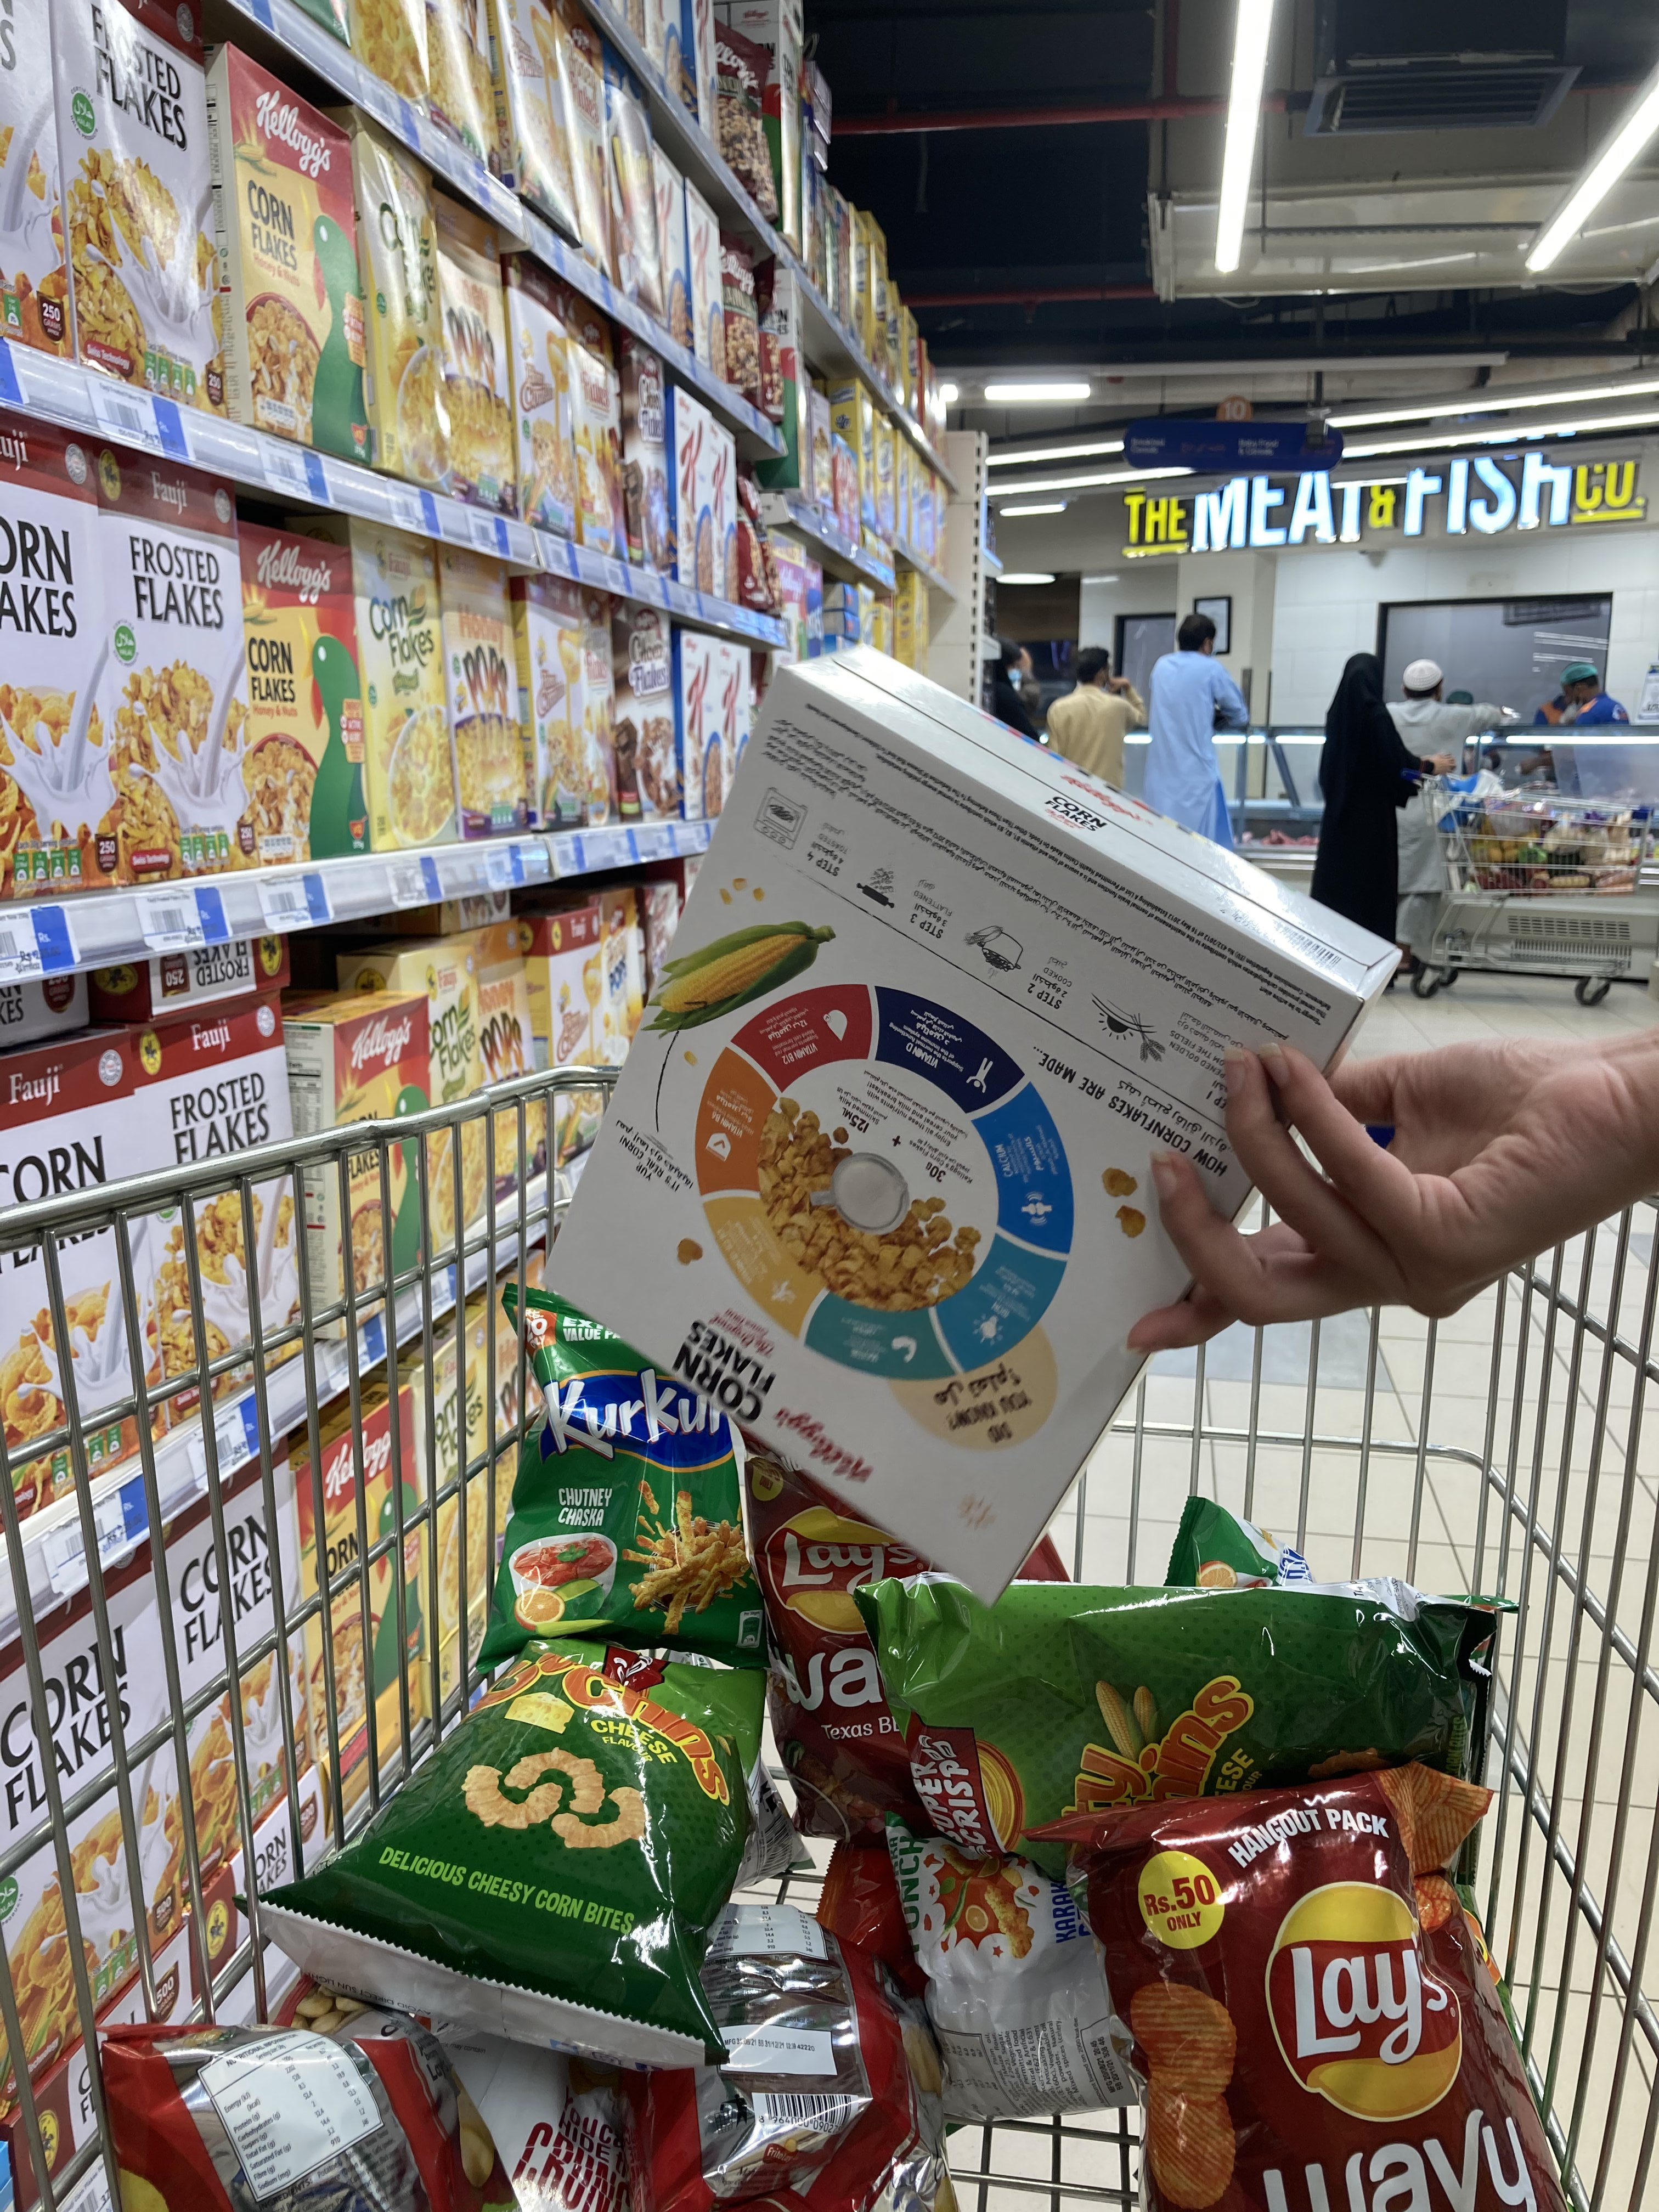Kellogg's Corn Flakes: (537, 639, 1410, 1609)
